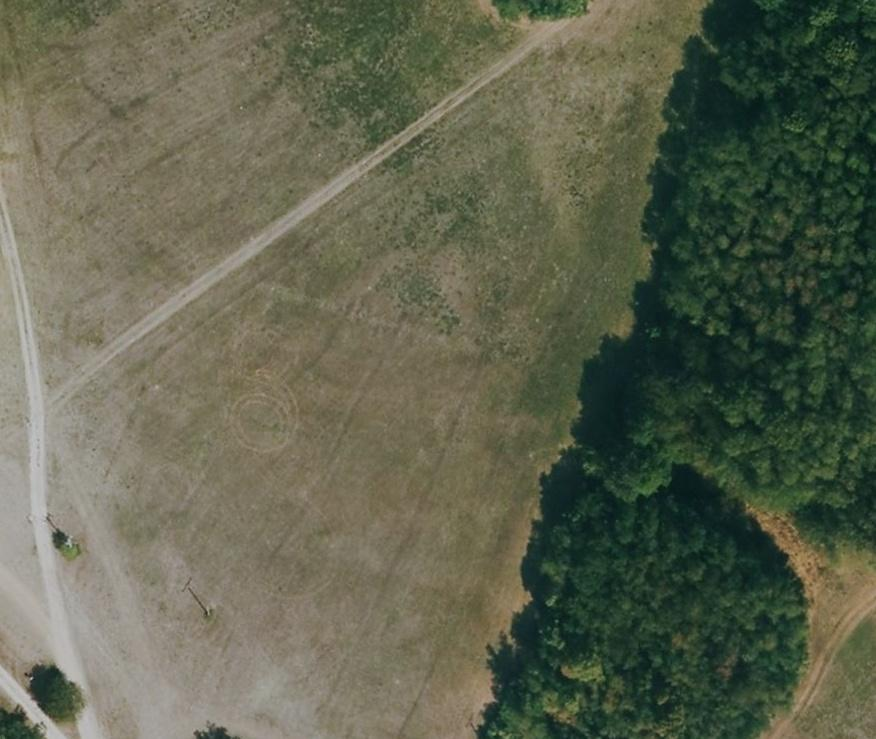field: (0, 2, 703, 737), (768, 518, 876, 736)
forest: (479, 2, 876, 737)
